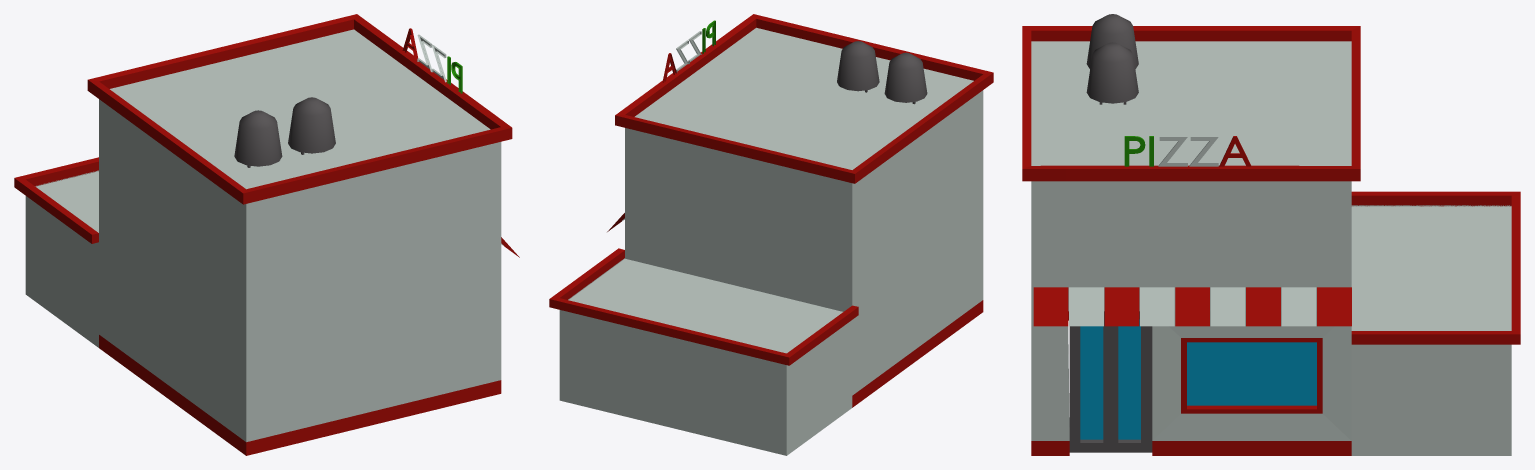
The model's file is PizzaHut.fbx.
3 renders of one model, left to right at view 1: azimuth 30°, elevation 25°; view 2: azimuth 150°, elevation 25°; view 3: azimuth 270°, elevation 25°, orthographic. The views are drawn at different scales.
Parts seen in each view (by area): view 1: PizzaHut; view 2: PizzaHut; view 3: PizzaHut.
Boxes of the visible parts, x1,y1,x2,y2 form: PizzaHut: (14,14,519,455); PizzaHut: (549,14,993,455); PizzaHut: (1022,14,1520,455).
Bounding box in the file's own units: 12.32 × 12.63 × 17.28.
